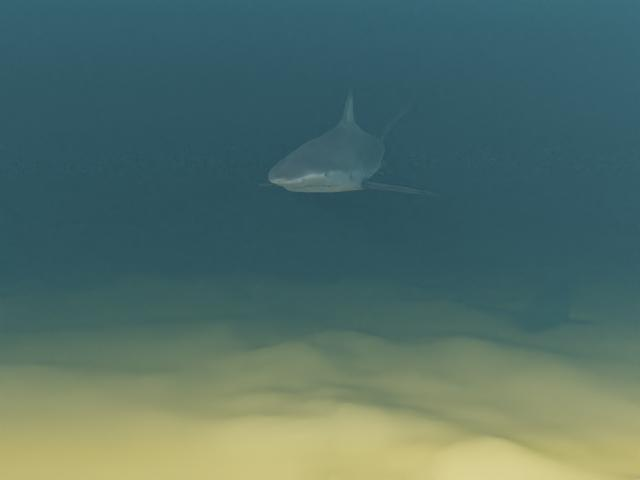Carribean Shark.001: (257, 89, 440, 195)
